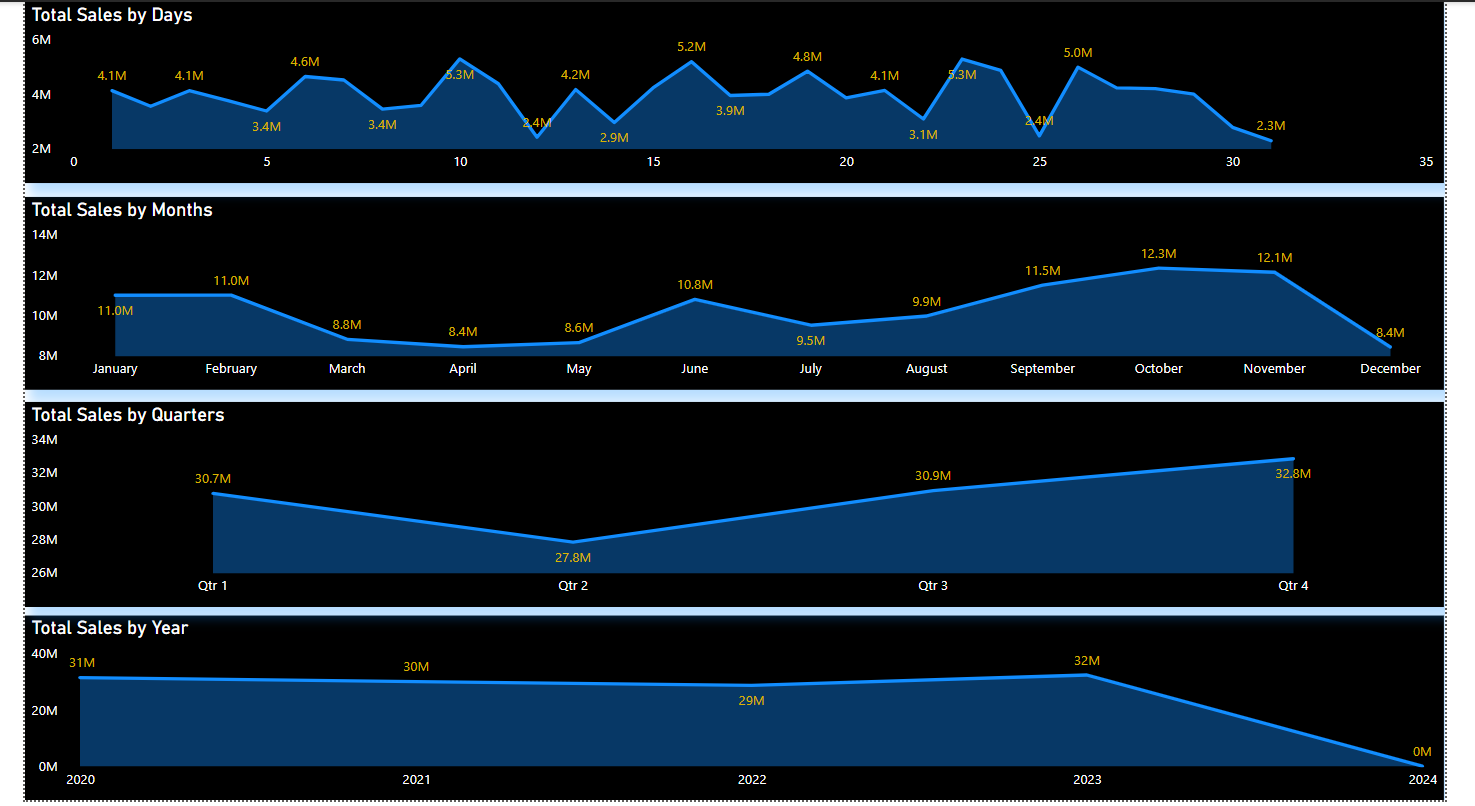

The page's visual inventory and layout, read from the dashboard file:
{"tool":"powerbi","page":{"name":"Sales by time period","canvas":[1280,720],"ordinal":1},"visuals":[{"type":"areaChart","title":"Total Sales by Year","fields":{"Y":["Sum(Fact table.Net Sales)"],"Category":["date table 1.Date.Variation.Date Hierarchy.Year","date table 1.Date.Variation.Date Hierarchy.Quarter","date table 1.Date.Variation.Date Hierarchy.Month","date table 1.Date.Variation.Date Hierarchy.Day"]},"box":[0,553.4,1279.5,167.1],"z":0},{"type":"areaChart","title":"Total Sales by Months","fields":{"Y":["Sum(Fact table.Net Sales)"],"Category":["date table 1.Date.Variation.Date Hierarchy.Year","date table 1.Date.Variation.Date Hierarchy.Quarter","date table 1.Date.Variation.Date Hierarchy.Month","date table 1.Date.Variation.Date Hierarchy.Day"]},"box":[0,175.3,1279.5,174],"z":1000},{"type":"areaChart","title":"Total Sales by Days","fields":{"Y":["Sum(Fact table.Net Sales)"],"Category":["date table 1.Date.Variation.Date Hierarchy.Year","date table 1.Date.Variation.Date Hierarchy.Quarter","date table 1.Date.Variation.Date Hierarchy.Month","date table 1.Date.Variation.Date Hierarchy.Day"]},"box":[0,0,1279.5,163],"z":2000},{"type":"areaChart","title":"Total Sales by Quarters","fields":{"Y":["Sum(Fact table.Net Sales)"],"Category":["date table 1.Date.Variation.Date Hierarchy.Year","date table 1.Date.Variation.Date Hierarchy.Quarter","date table 1.Date.Variation.Date Hierarchy.Month","date table 1.Date.Variation.Date Hierarchy.Day"]},"box":[0,360.3,1279.5,184.9],"z":3000}]}

Visuals, with their boxes in screenshot pixels (x1, y1, x2, y2), scaled from the page's 1280x720 canvas onto the 1475x806 screenshot:
"Total Sales by Year" areaChart: crop(0, 620, 1474, 805)
"Total Sales by Months" areaChart: crop(0, 196, 1474, 391)
"Total Sales by Days" areaChart: crop(0, 0, 1474, 182)
"Total Sales by Quarters" areaChart: crop(0, 403, 1474, 610)
